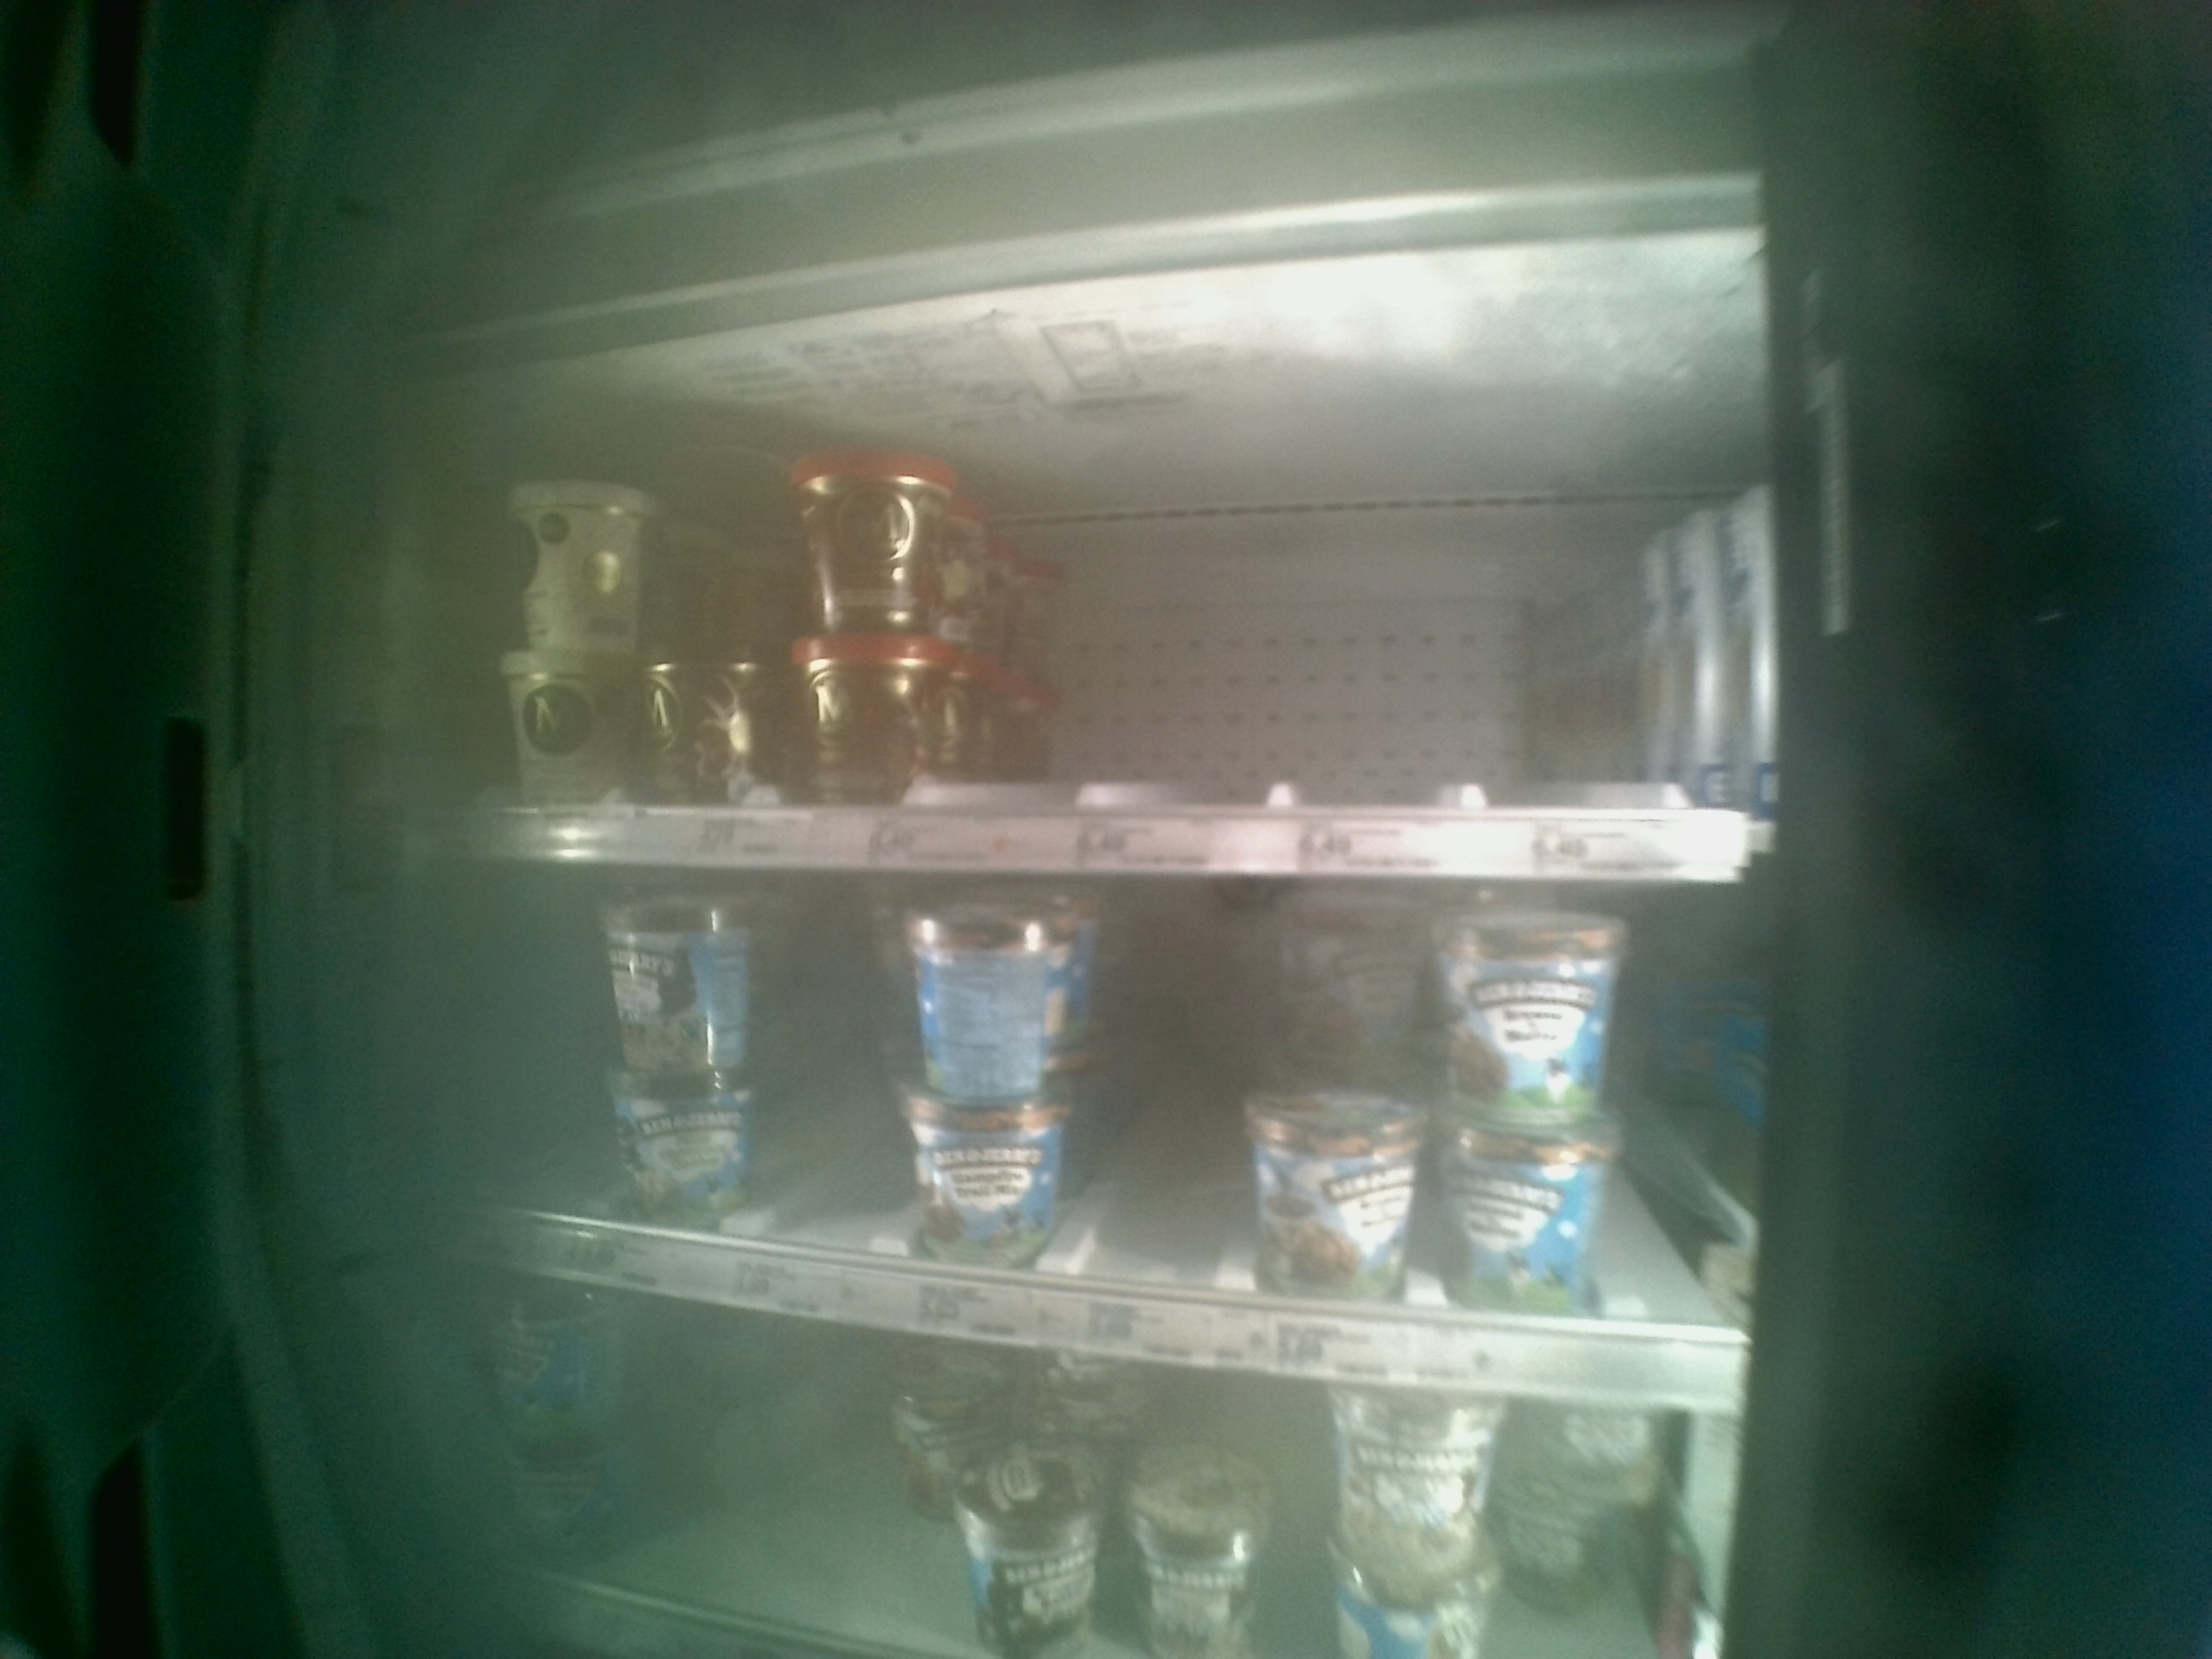shelf: (434, 871, 1735, 1410), (441, 355, 1770, 877)
